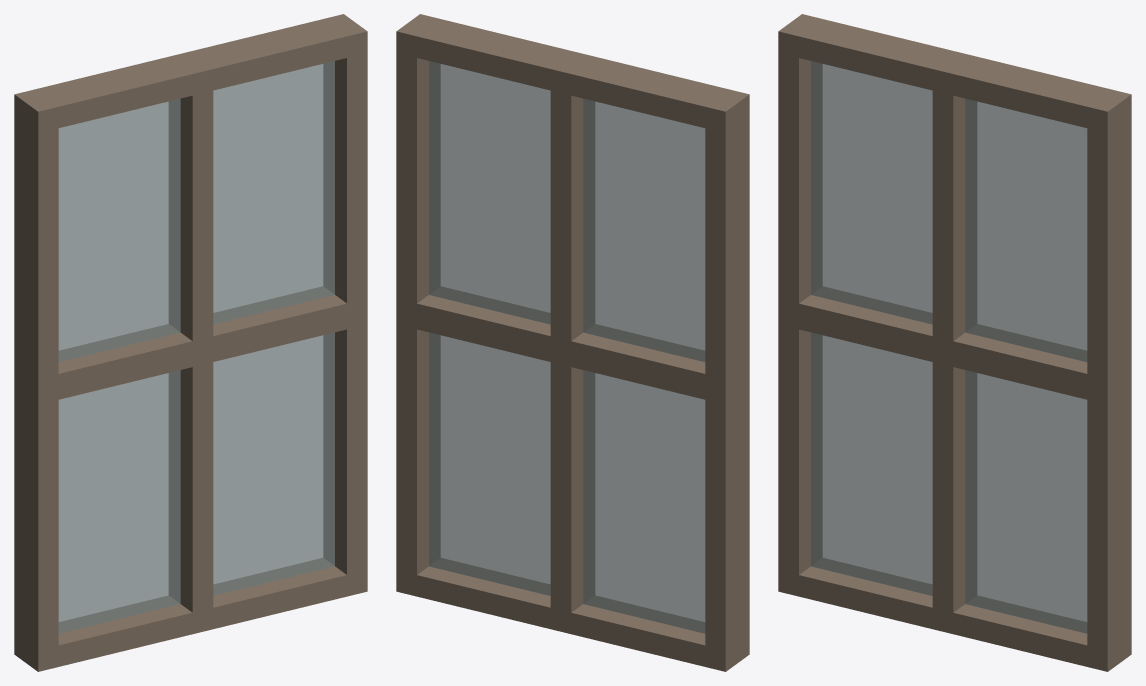
Rendered from victorian_window_square_curve.fbx.
3 views of the same model, side by side, from view 1: azimuth 30°, elevation 25°; view 2: azimuth 150°, elevation 25°; view 3: azimuth 330°, elevation 25° (orthographic).
Parts seen in each view (by area): view 1: Plane.009; view 2: Plane.009; view 3: Plane.009.
Boxes of the visible parts, x1,y1,x2,y2 form: Plane.009: (14,14,367,671); Plane.009: (396,14,749,671); Plane.009: (778,14,1131,671).
Size of the model in its own units: 80 by 130 by 10.
